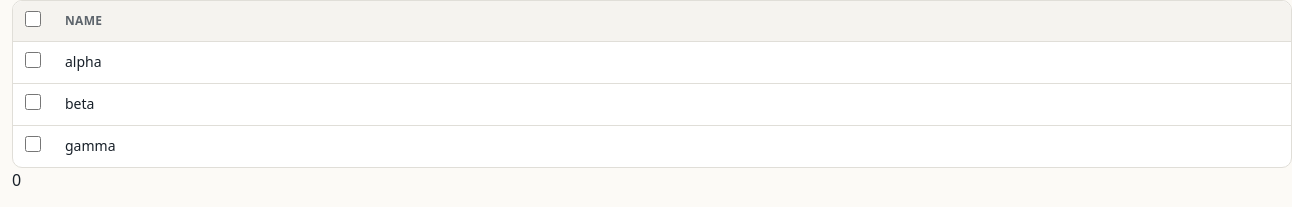
DataTable › selects single rows and every row from the header
The width and height of the screenshot is (1292, 207).
Click the checkbox named "Select row" next to "alpha".
click(33, 60)  # box [25, 52, 41, 68]
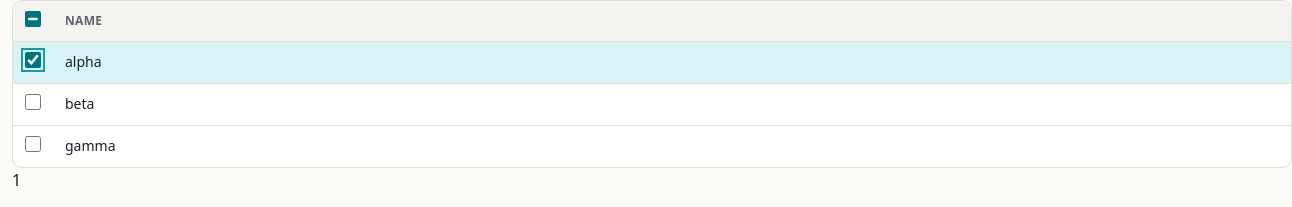
Expected: the text with test id "count" reads "1", [12, 168, 21, 190]
Click the checkbox named "Select all rows".
click(33, 19)  # box [25, 11, 41, 27]
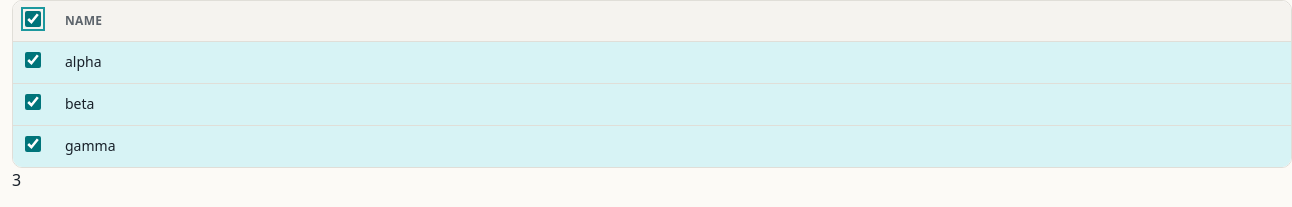
Expected: the text with test id "count" reads "3", [12, 168, 21, 190]
Click the checkbox named "Select all rows".
click(33, 19)  # box [25, 11, 41, 27]
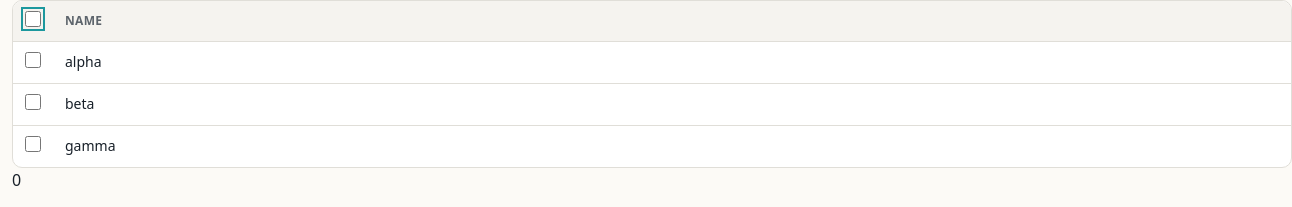
Expected: the text with test id "count" reads "0", [12, 168, 21, 190]
